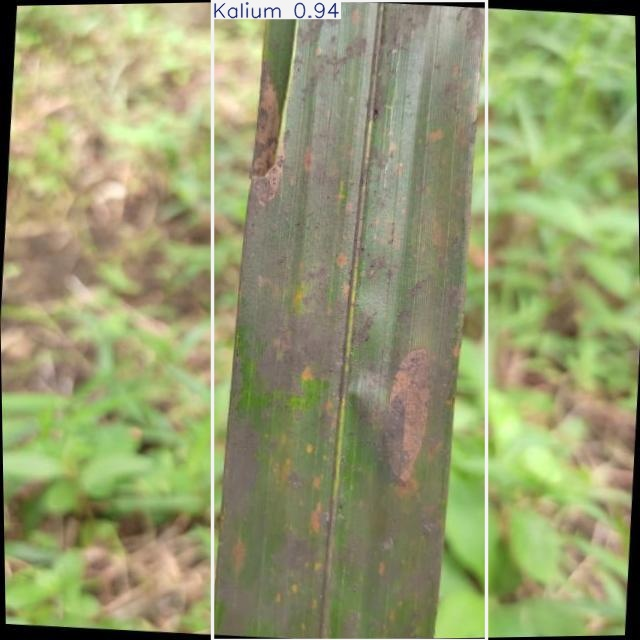Kalium: (213, 0, 486, 640)
